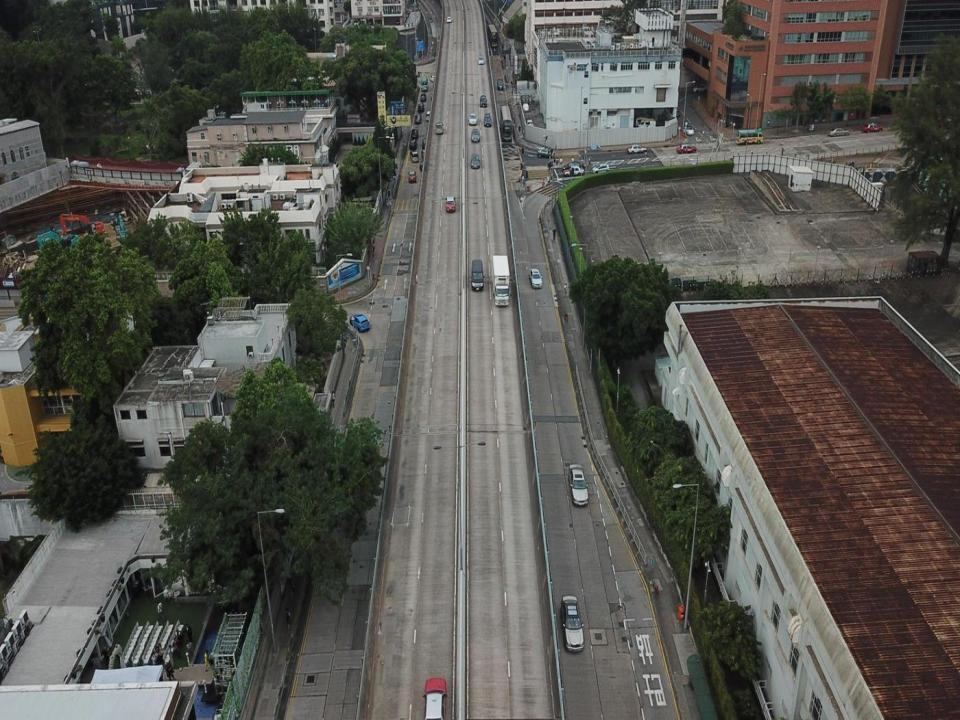bus: (499, 105, 513, 143), (735, 128, 763, 144), (488, 24, 498, 46), (421, 76, 428, 91)
car: (562, 592, 585, 653), (423, 677, 446, 719), (568, 464, 589, 506), (349, 313, 370, 332), (530, 265, 542, 288), (537, 145, 554, 158), (592, 162, 610, 174), (862, 122, 883, 132), (562, 162, 582, 172), (676, 144, 696, 154), (627, 144, 646, 154), (828, 127, 849, 136), (444, 196, 456, 211), (564, 166, 584, 174), (683, 124, 695, 136), (470, 154, 480, 168), (470, 128, 480, 142), (484, 113, 492, 127), (526, 119, 533, 133), (468, 112, 476, 124), (436, 122, 444, 134), (410, 170, 417, 182), (418, 103, 424, 114), (426, 110, 431, 122), (420, 93, 426, 102), (415, 114, 421, 122), (446, 15, 452, 22), (429, 76, 436, 81)
truck: (492, 255, 509, 306)
van: (471, 258, 484, 291), (634, 113, 654, 128), (637, 120, 654, 132), (419, 160, 429, 174), (421, 138, 430, 153), (410, 149, 419, 162), (480, 95, 488, 107), (496, 78, 504, 90), (409, 138, 417, 149), (410, 128, 418, 139), (478, 55, 484, 65), (422, 149, 428, 157)
